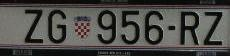-: (168, 25, 176, 31)
5: (121, 9, 139, 45)
6: (146, 10, 163, 45)
9: (97, 10, 117, 45)
G: (49, 10, 67, 43)
R: (181, 11, 199, 45)
Z: (24, 10, 44, 44), (204, 11, 223, 45)
